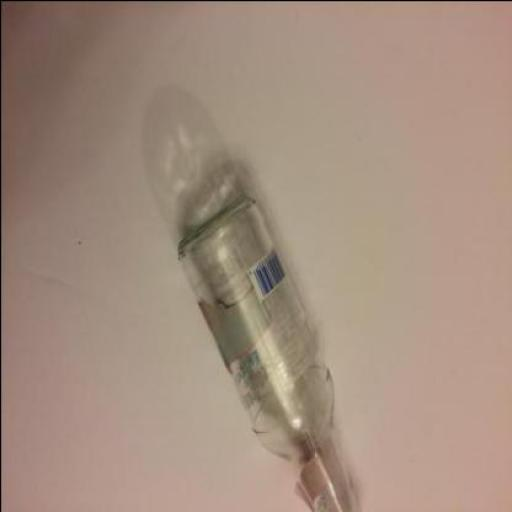glass: (179, 191, 358, 511)
